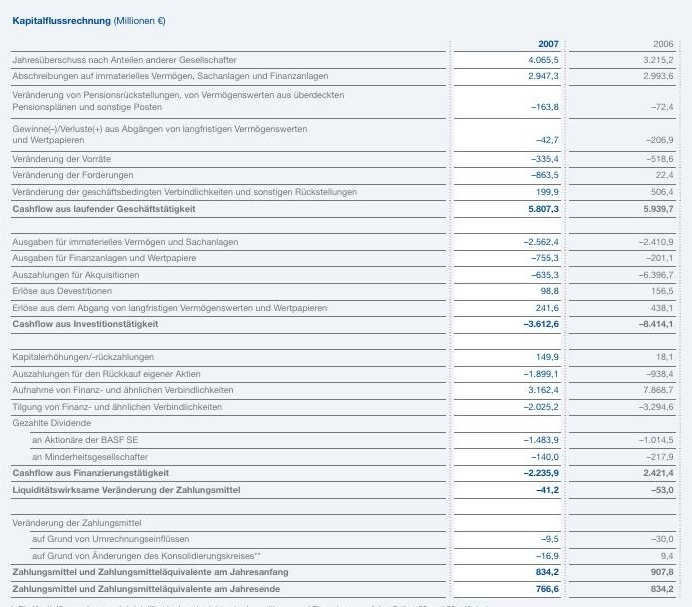table: (0, 0, 692, 607)
